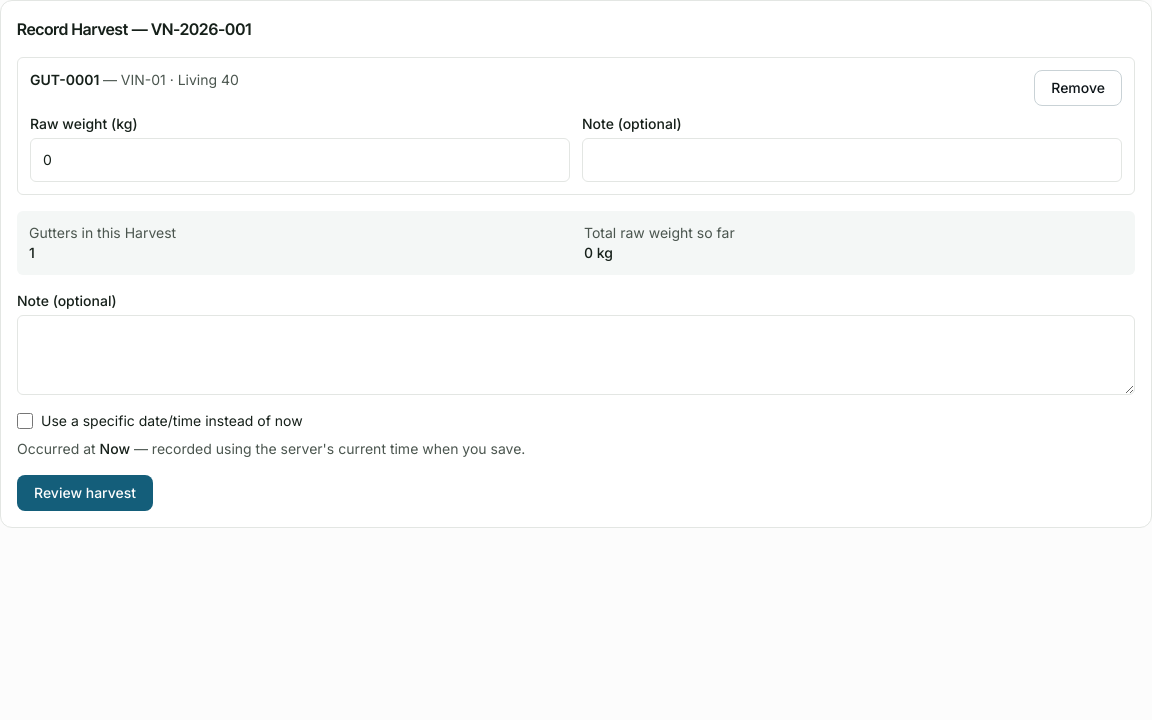
Test: RecordVinesHarvestForm HOTFIX-TIME-002: server-authoritative harvest time › default mode never shows an uncommitted browser timestamp as though it is already authoritative -- shows Now instead
Replace the text in the number field labelled "Raw weight (kg)" with "3.5": point(300, 160) [30,138,570,182]
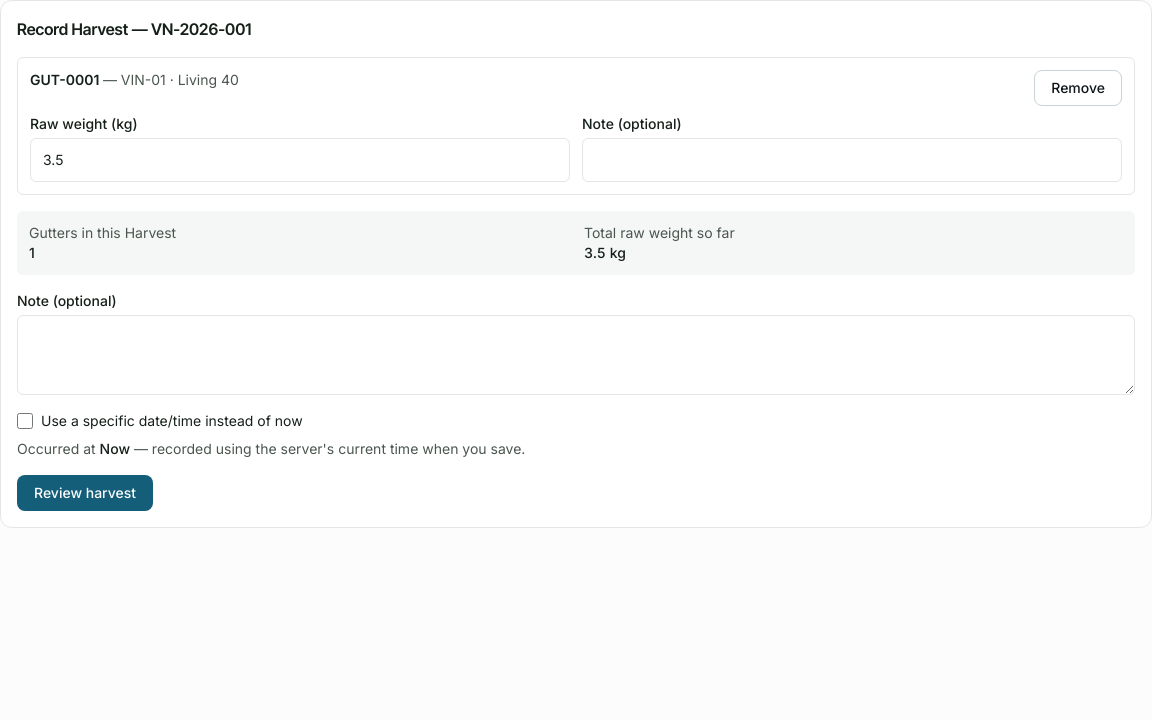
Click the button "Review harvest": point(85, 493) [17,475,153,511]
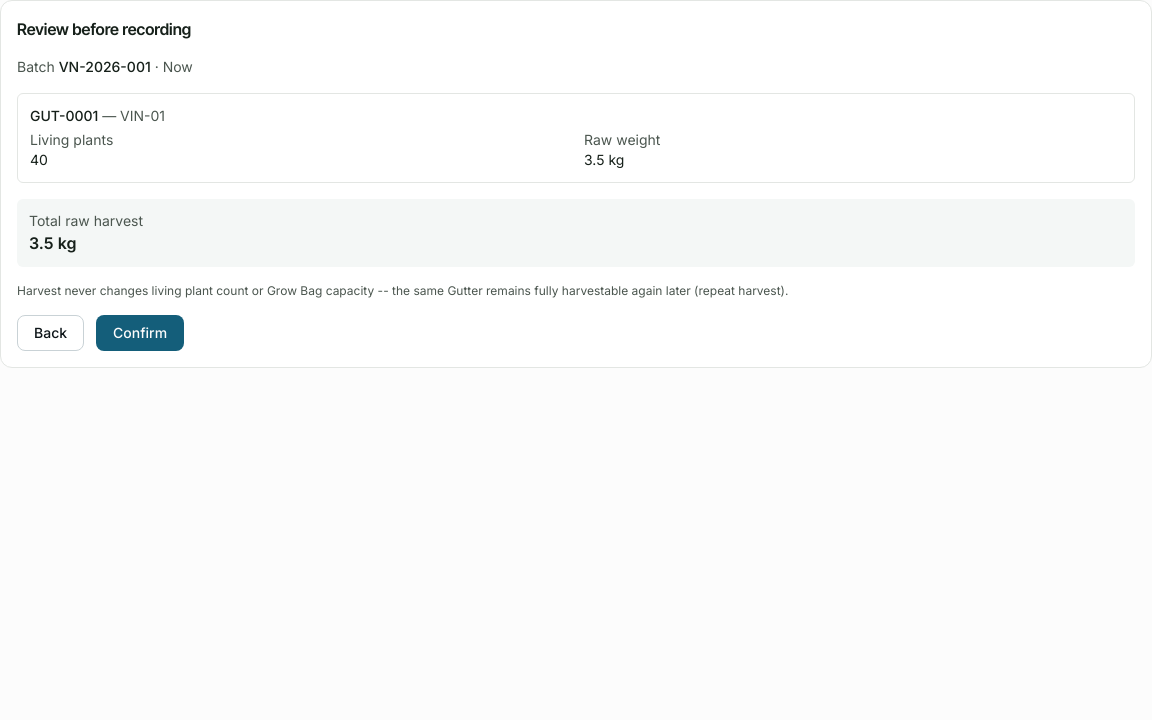
Expected: the text "Now" is shown, [163,58,193,75]
Result: the heading "Review before recording" is shown at [17,19,191,39]
